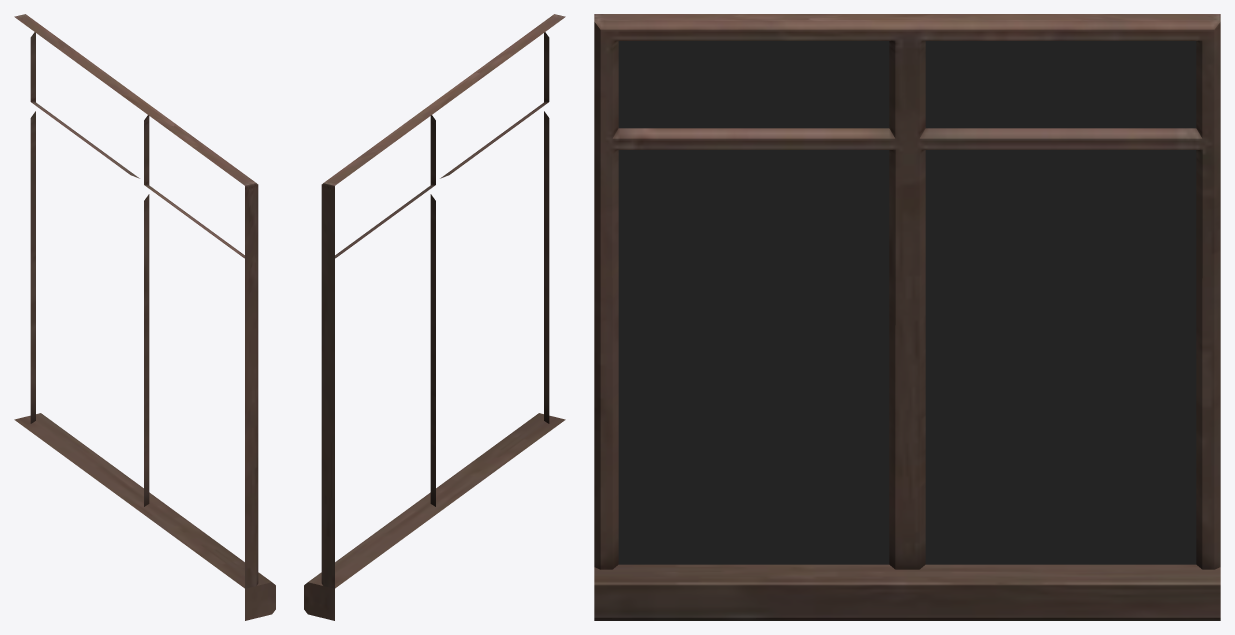
The picture shows the model from 3 angles, left to right: view 1: azimuth 30°, elevation 25°; view 2: azimuth 150°, elevation 25°; view 3: azimuth 270°, elevation 25°; orthographic projection. The views are drawn at different scales.
Visible parts, largest first — view 1: body0_model0_lod0_mesh1; view 2: body0_model0_lod0_mesh1; view 3: body0_model0_lod0_mesh0, body0_model0_lod0_mesh1.
Boxes of the visible parts, x1,y1,x2,y2 form: body0_model0_lod0_mesh1: (14,14,275,620); body0_model0_lod0_mesh1: (304,14,565,620); body0_model0_lod0_mesh0: (618,41,1196,564); body0_model0_lod0_mesh1: (594,14,1220,620).
Size of the model in its own units: 8 by 108 by 104.
Materials: 2 (1 with a texture image).
